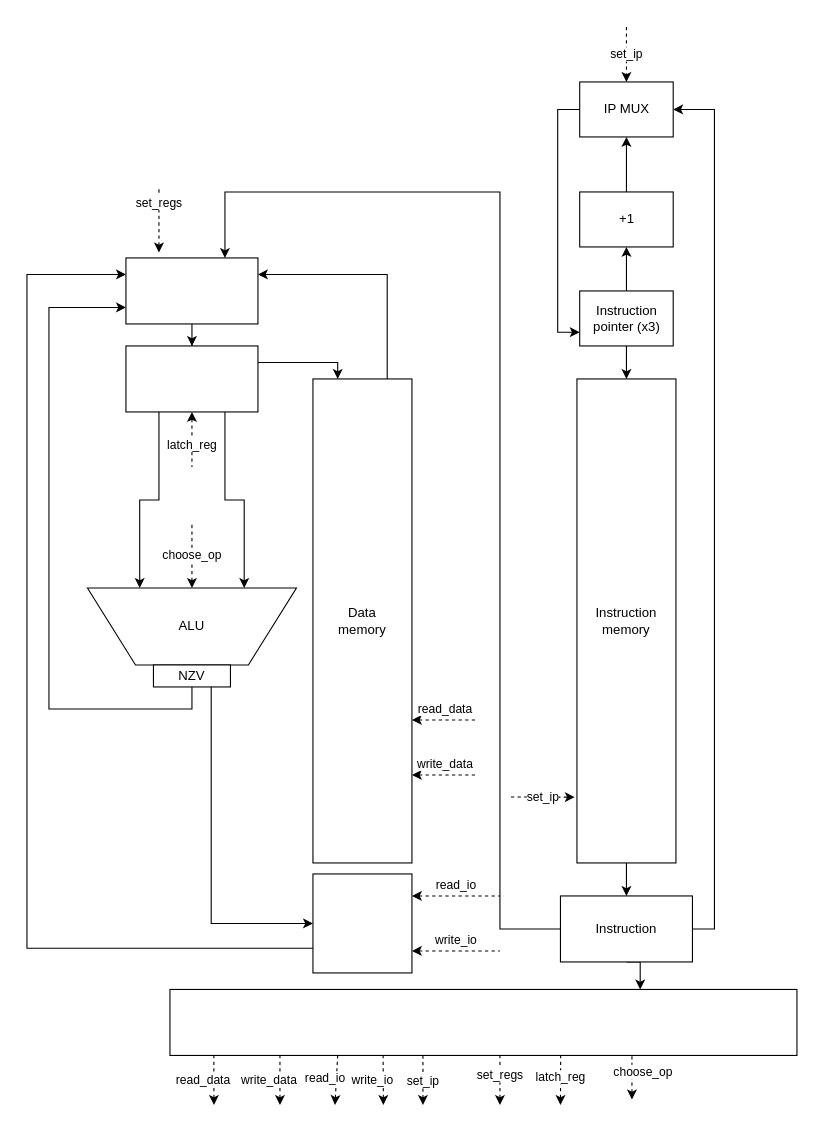
Some shapes in this 816 by 1133 pixel diagram are drawn without their labels. The centre of each missing label's shape, as x and y in pixels:
Instruction decoder: point (483, 1021)
Memory mapped IO: point (362, 923)
REG MUX: point (191, 290)
Registers (x0 - x15): point (191, 378)
